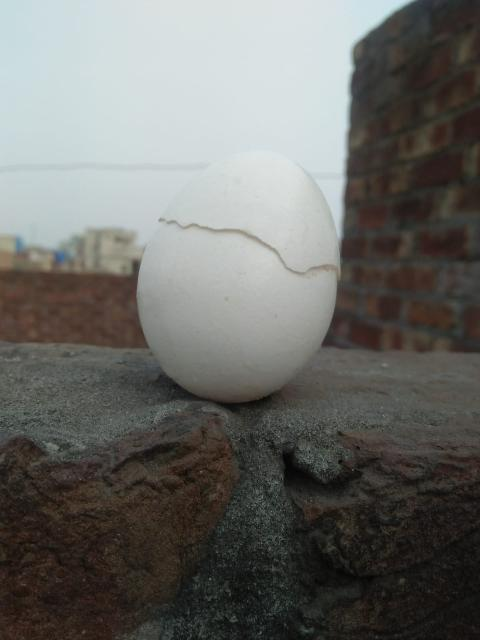Roto: (135, 149, 342, 404)
